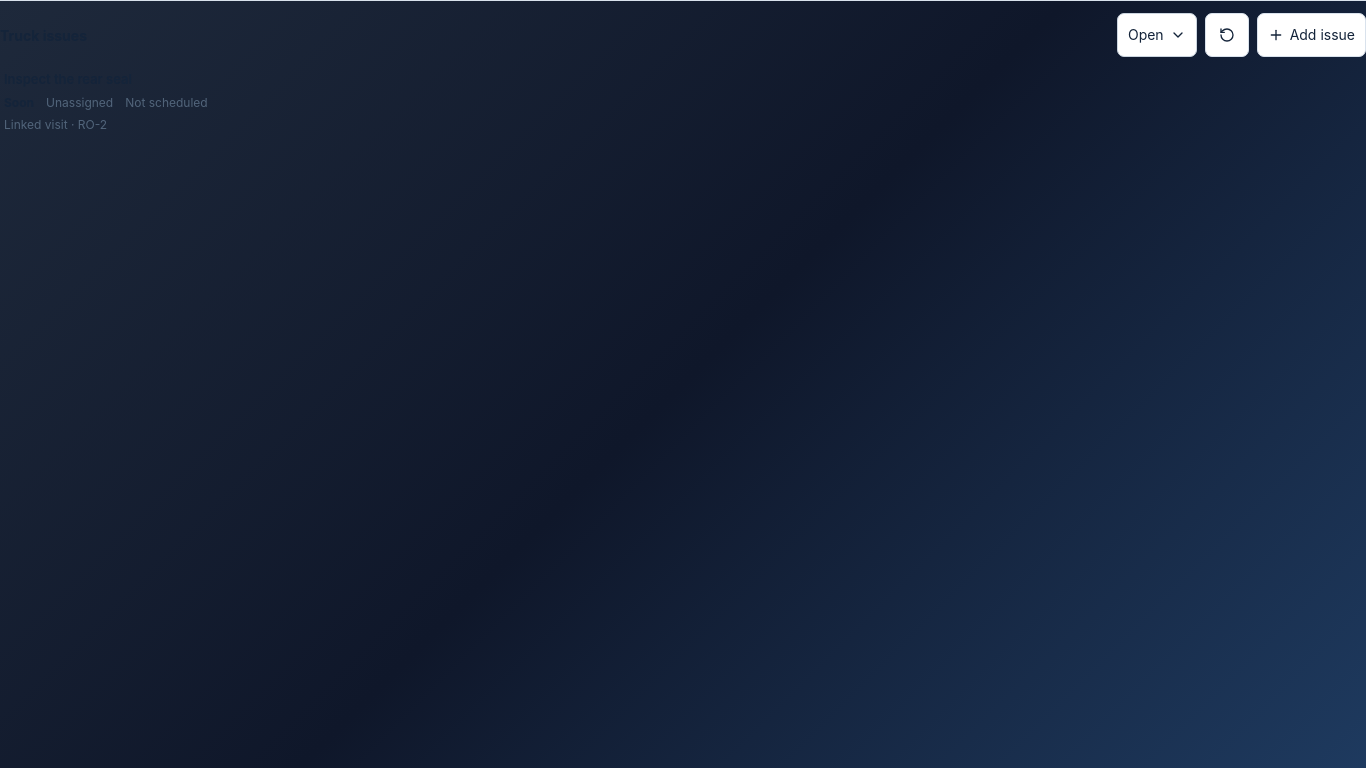
Test case: C3 staff truck issues › labels an already-current linked visit without creating a self-return loop
This screenshot has width=1366, height=768.
Click the button with aria-label "View truck issue" at x=68, y=79, box [0,61,1365,142]
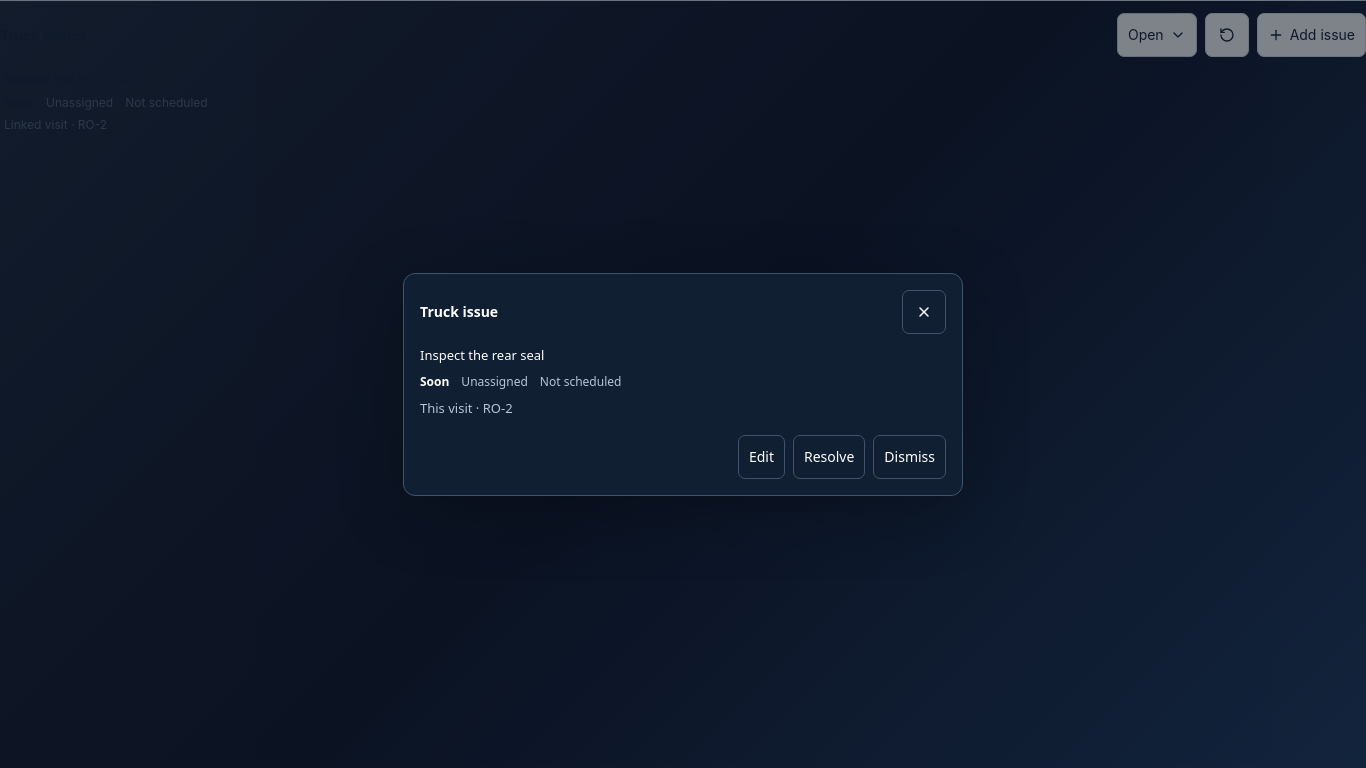
Expected: the text "This visit · RO-2" is shown, [420,399,513,417]
